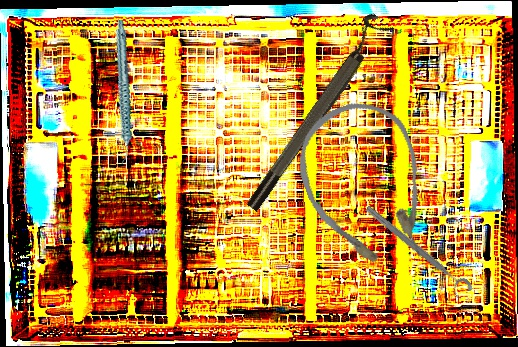Cannula: (283, 88, 449, 287)
Fixation Ring: (234, 10, 396, 215), (358, 202, 475, 303)
Handpiece: (90, 19, 155, 165)
